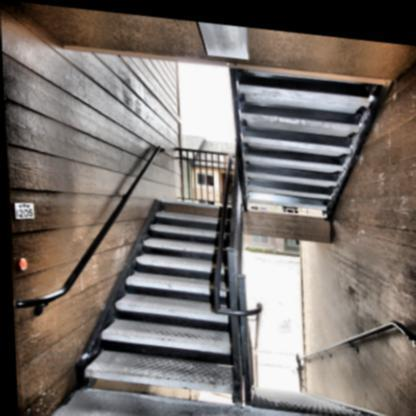stair: (87, 191, 250, 412)
